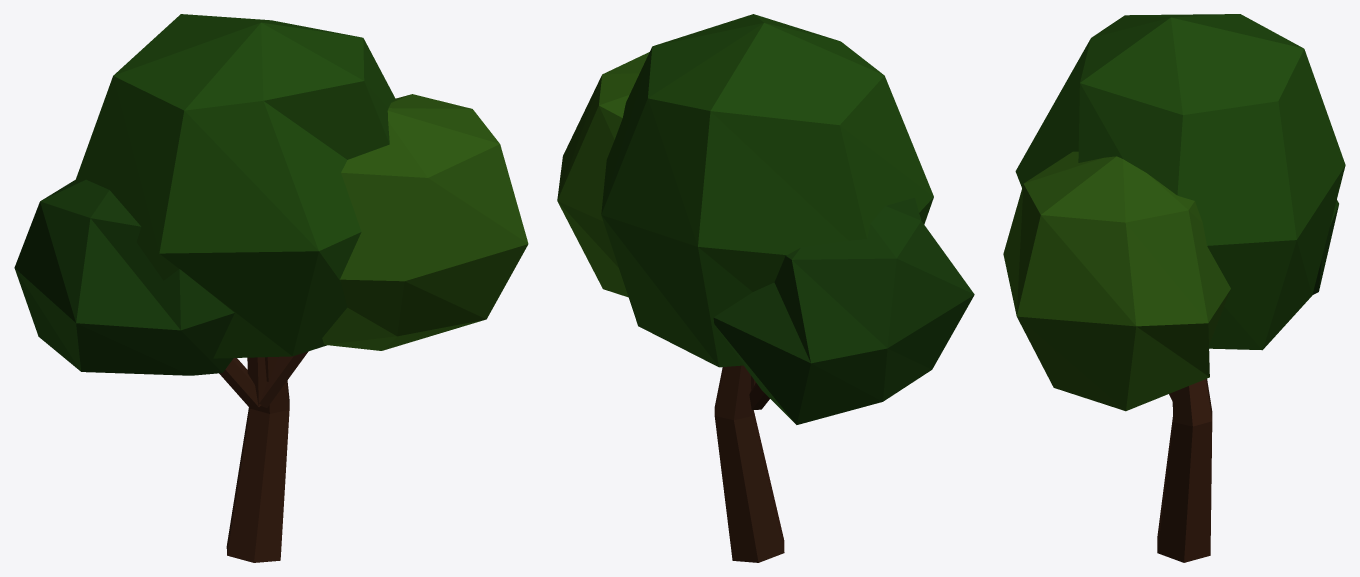
File: SM_TreeBroad.fbx
The picture shows the model from 3 angles, left to right: view 1: azimuth 30°, elevation 25°; view 2: azimuth 150°, elevation 25°; view 3: azimuth 270°, elevation 25°; orthographic projection. The views are drawn at different scales.
Visible parts, largest first — view 1: SM_TreeBroad • FBX; view 2: SM_TreeBroad • FBX; view 3: SM_TreeBroad • FBX.
Part boxes in pixels (x1,y1,x2,y2): SM_TreeBroad • FBX: (14, 14, 528, 562); SM_TreeBroad • FBX: (557, 14, 974, 562); SM_TreeBroad • FBX: (1003, 14, 1345, 562).
Bounding box in the file's own units: 819 × 580 × 996.
